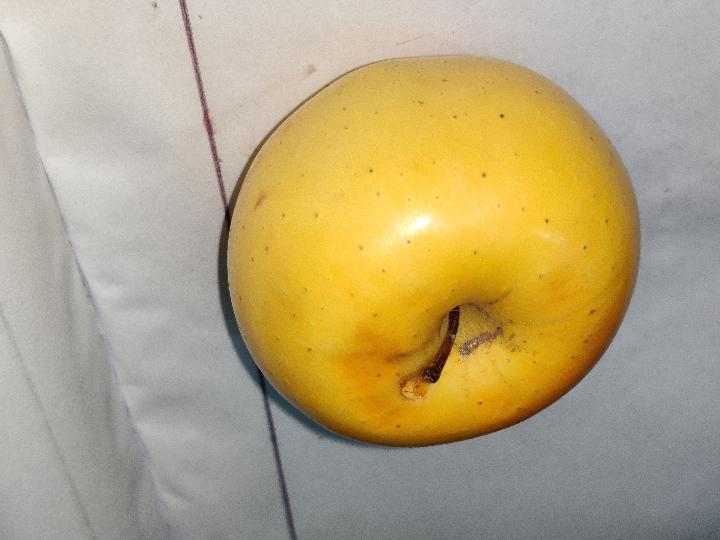apple: (227, 57, 639, 446)
surface_damage: (401, 374, 432, 399)
